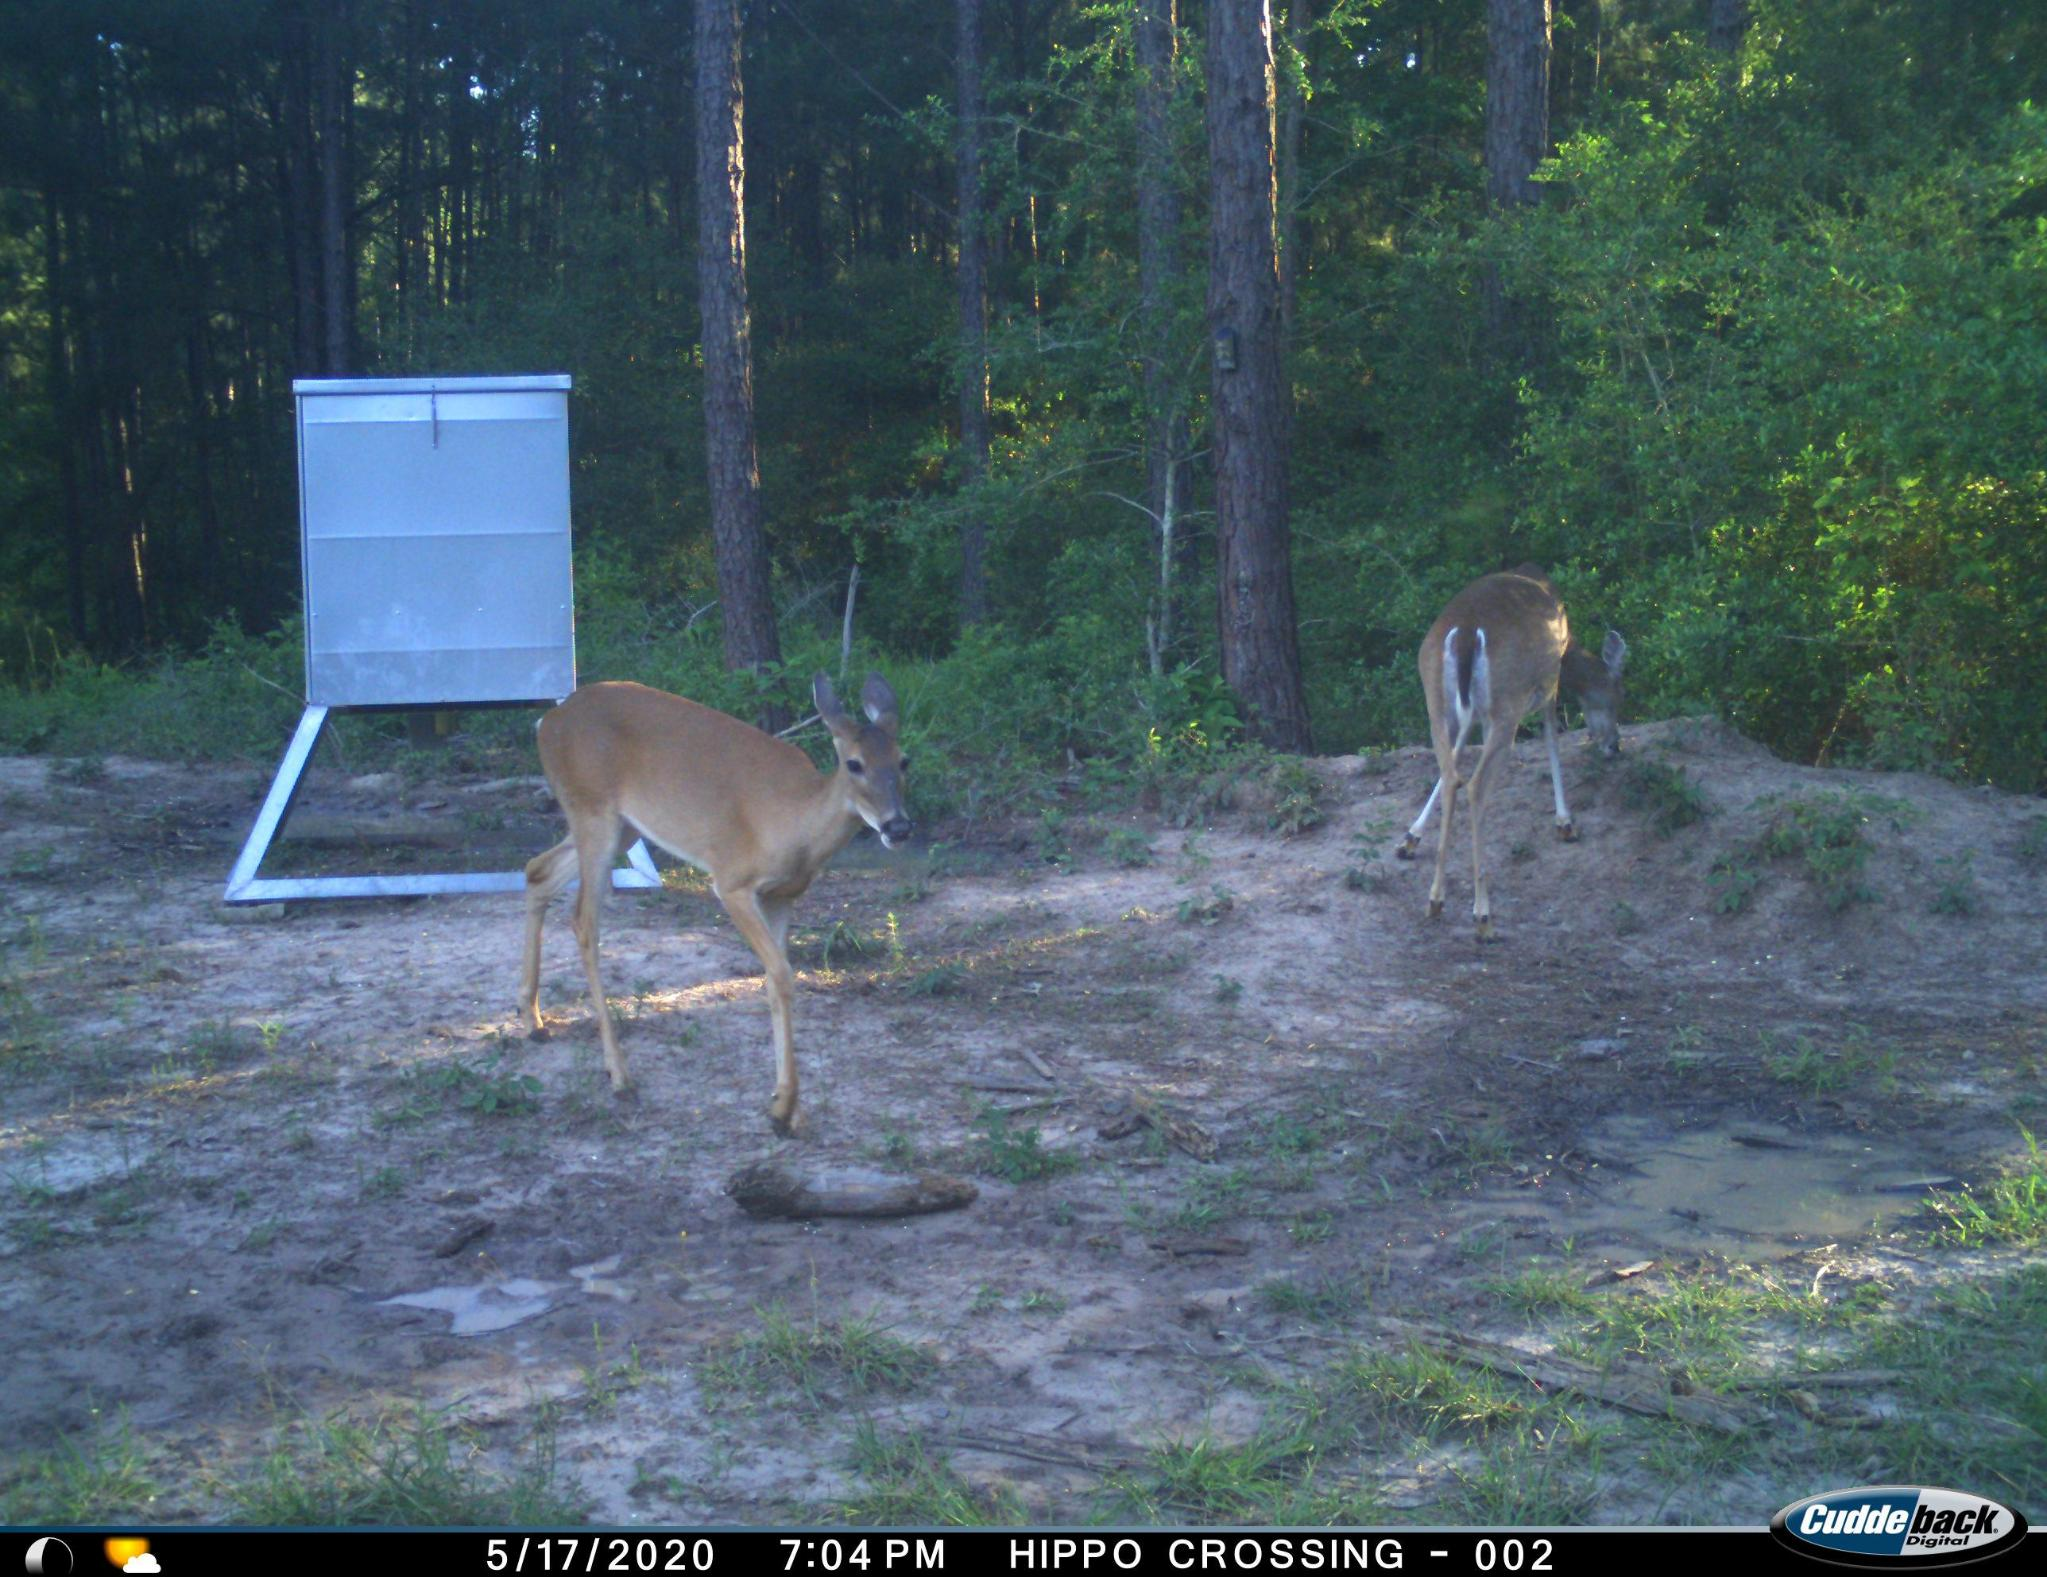Deer: (515, 666, 926, 1140), (1391, 557, 1646, 957)
